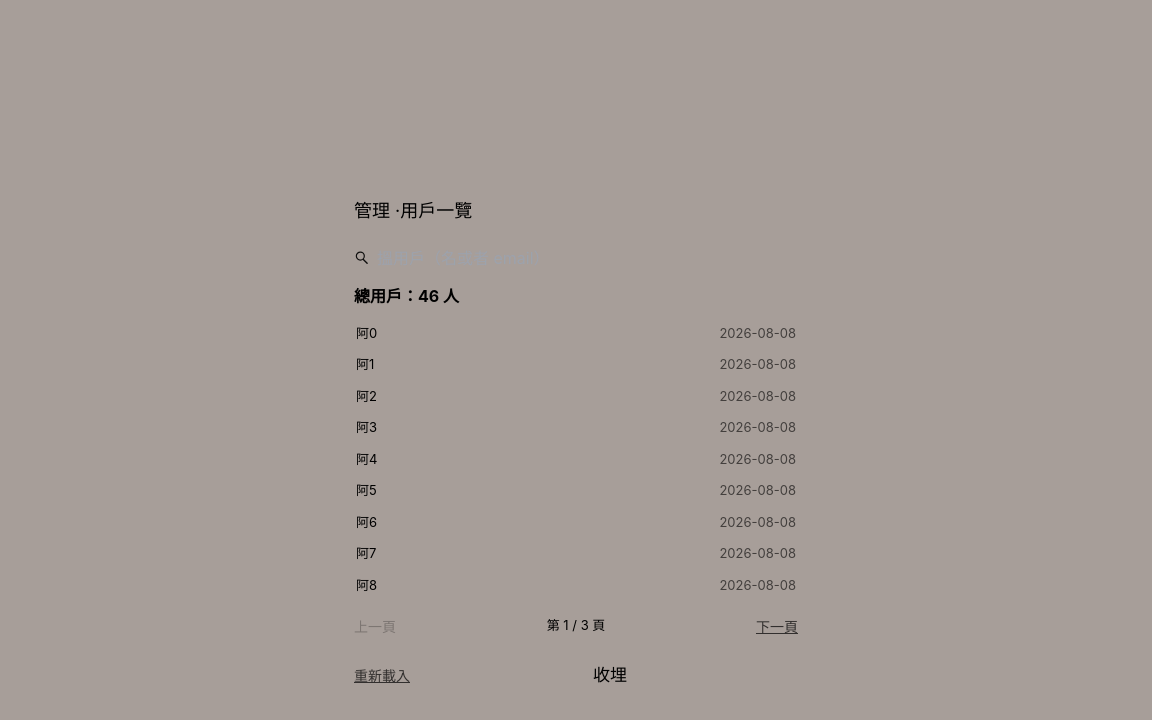
Scenario: last page is short and 下一頁 is disabled there
Expected: the text "阿0" is shown, [356,324,377,343]
What coordinates should you click on to do the following:
click the button "下一頁"
I would click on:
 (777, 626)
Its box is [756,616,798,636].
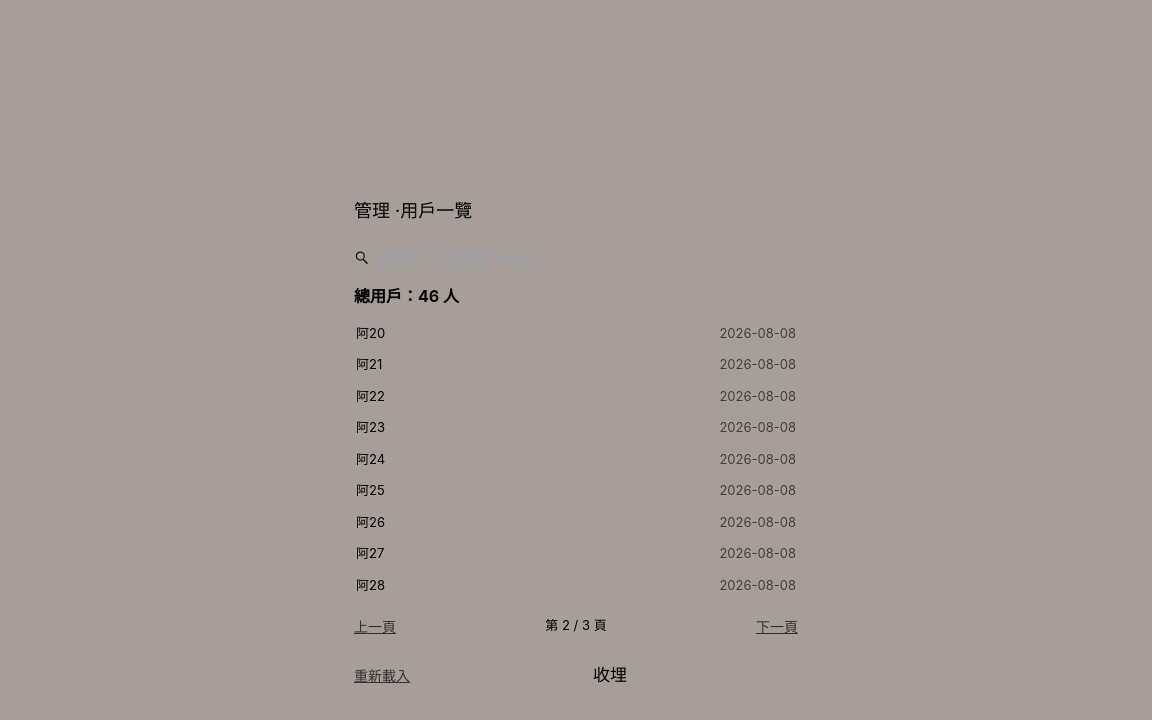
What coordinates should you click on to do the following:
click the button "下一頁"
I would click on:
 (777, 626)
Its box is [756,616,798,636].
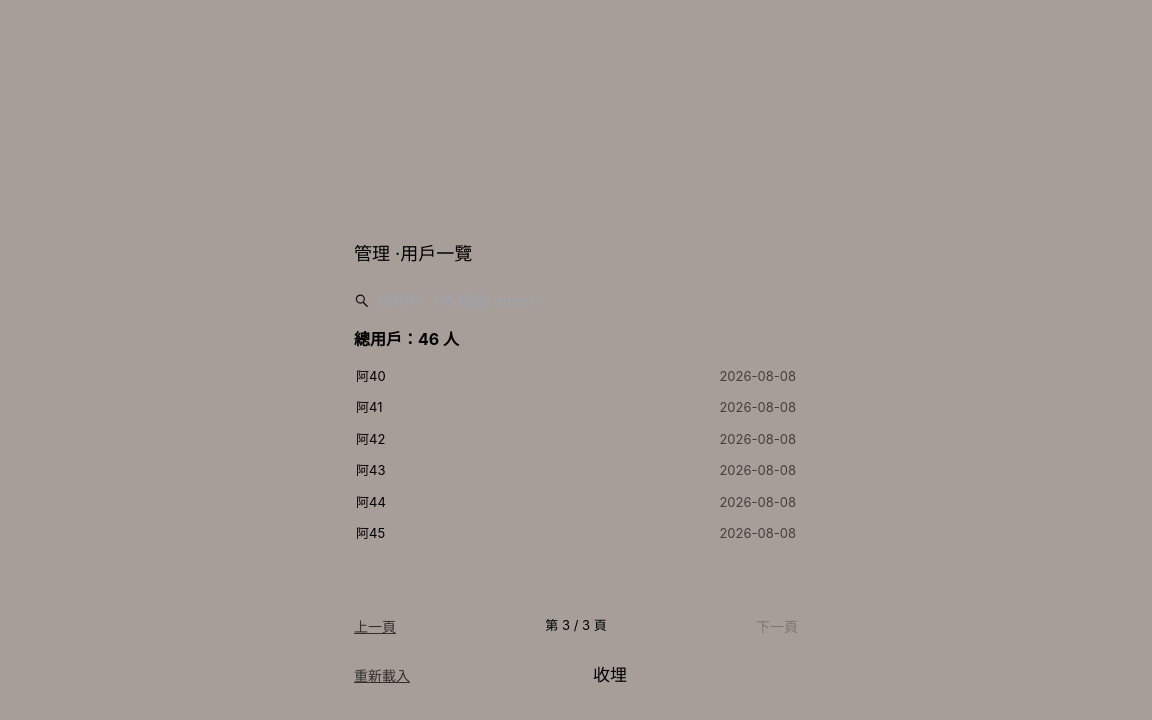
Expected: the text "第 3 / 3 頁" is shown, [545,616,607,636]
Expected: the number of list items is 6, [356,368,796,384]; [356,399,796,415]; [356,431,796,447]; [356,462,796,478]; [356,494,796,510]; [356,525,796,541]
Expected: the button "下一頁" is disabled, [756,616,798,636]
